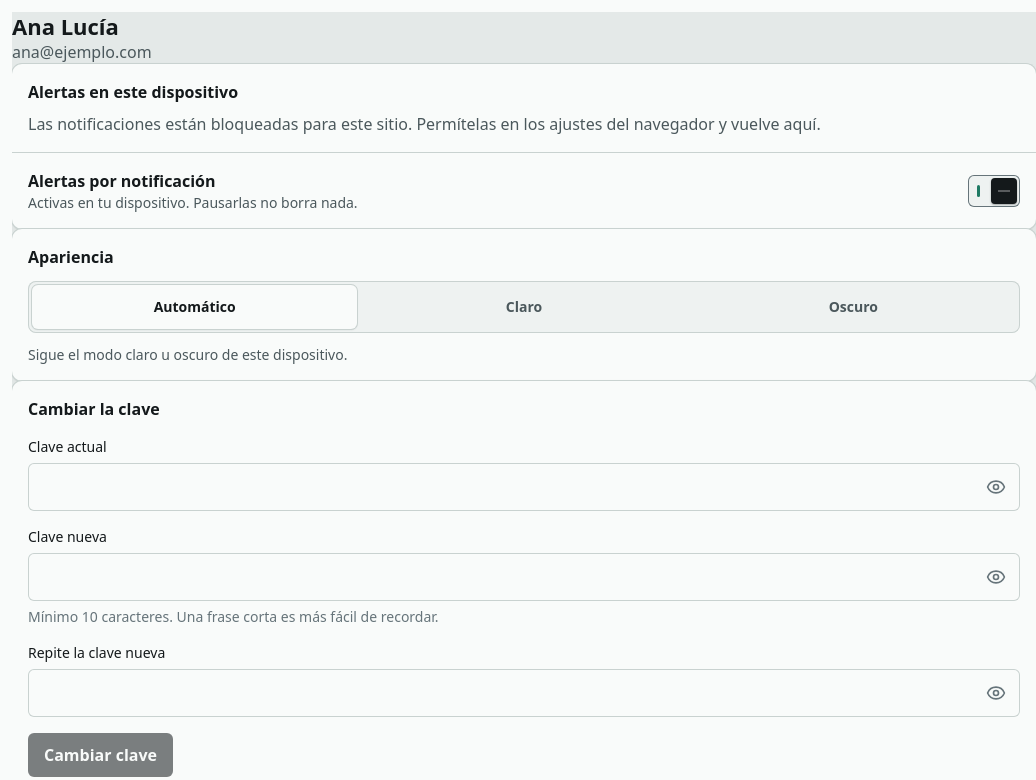
Test: Perfil › pausar las alertas de la cuenta manda webpush: false
The image size is (1036, 780).
Click the switch named "Alertas por notificación en todos tus dispositivos" at [994, 191], box [968,175,1020,207]
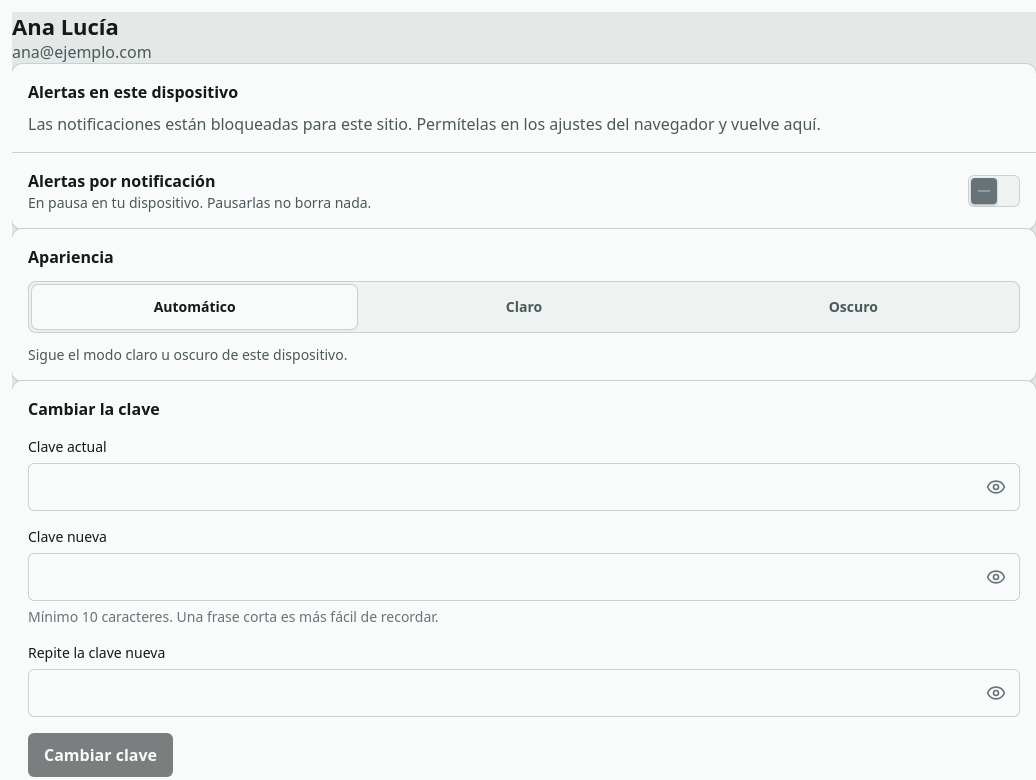
Check: the switch named "Alertas por notificación en todos tus dispositivos" is not checked, box [968,175,1020,207]
Check: the text "En pausa en tu dispositivo. Pausarlas no borra nada." is shown, box [28,193,371,212]
